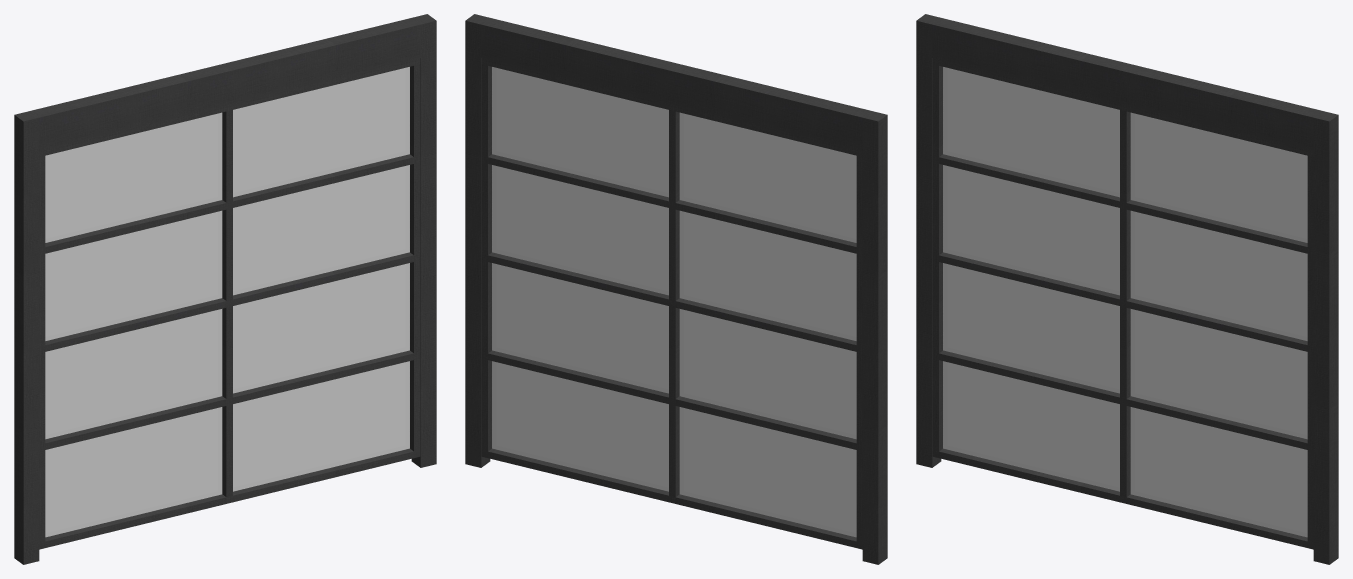
Rendered from es-polycaB_h2000_kurocha.fbx.
3 views of the same model, side by side, from view 1: azimuth 30°, elevation 25°; view 2: azimuth 150°, elevation 25°; view 3: azimuth 330°, elevation 25° (orthographic).
Parts seen in each view (by area): view 1: es-polycaB_h2000_kurocha; view 2: es-polycaB_h2000_kurocha; view 3: es-polycaB_h2000_kurocha.
Boxes of the visible parts, x1,y1,x2,y2 form: es-polycaB_h2000_kurocha: (14, 14, 436, 564); es-polycaB_h2000_kurocha: (465, 14, 887, 564); es-polycaB_h2000_kurocha: (916, 14, 1338, 564).
Size of the model in its own units: 195 by 200 by 7.5.
Materials: 3 (2 with a texture image).
